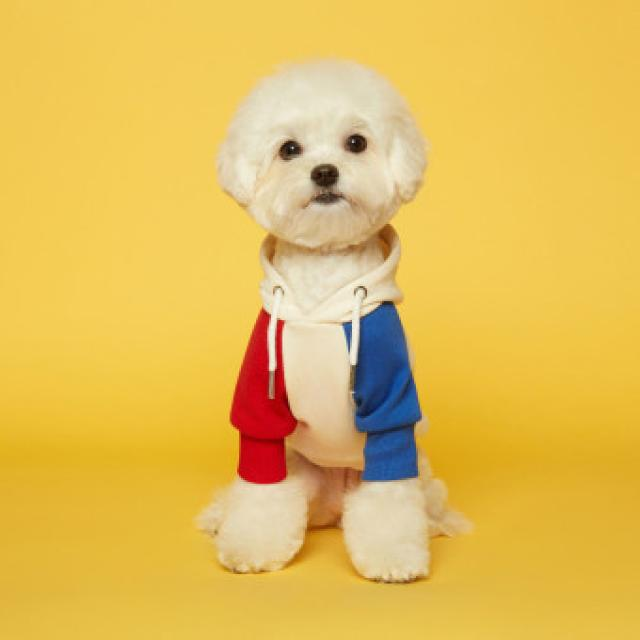cloth: (230, 241, 422, 482)
